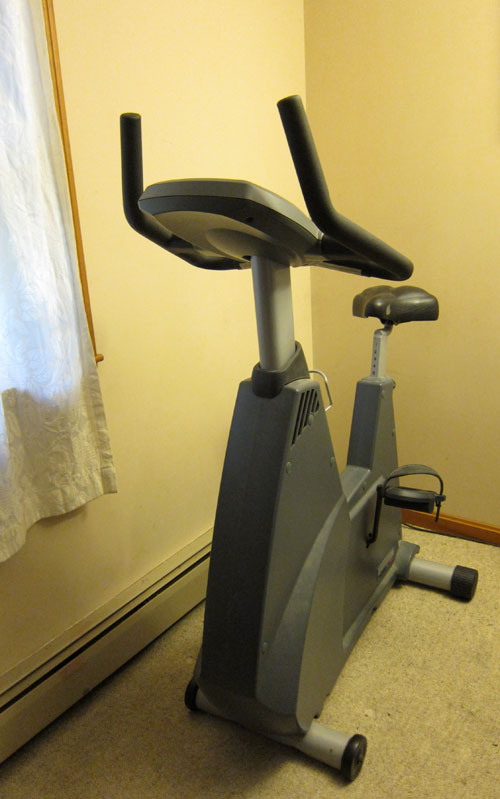gym_bike: (78, 114, 484, 771)
